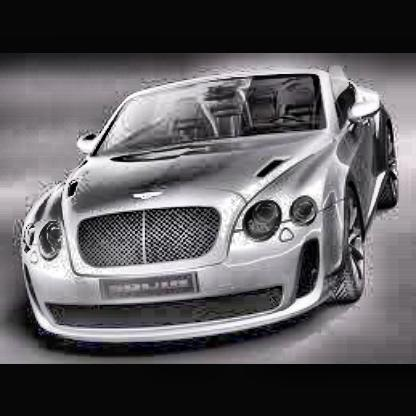Bentley Continental Supersports Conv- Convertible 2012: (21, 64, 406, 345)
